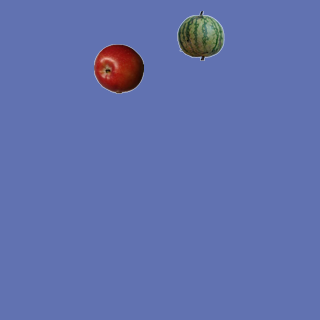Apple Braeburn: (93, 43, 143, 93)
Watermelon: (175, 10, 225, 60)
